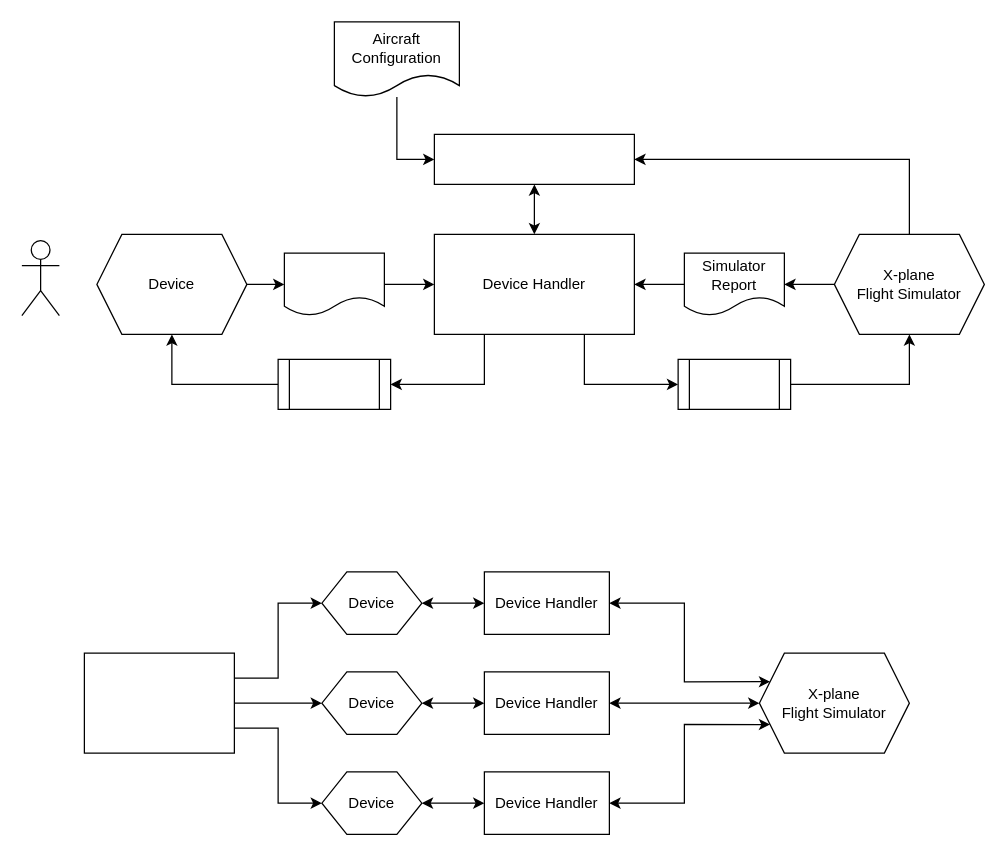
Image size: 1006x856. Some labels were removed from this diagram. Here are the shapes that lost their labels. From the top down, the box of each, then its label:
(433, 133, 634, 184): Aircraft Handler
(21, 239, 59, 316): Pilot
(283, 252, 384, 316): Device Report
(277, 358, 391, 409): Device Action
(677, 358, 791, 409): Simulator Action
(83, 652, 234, 753): winwing-cli
